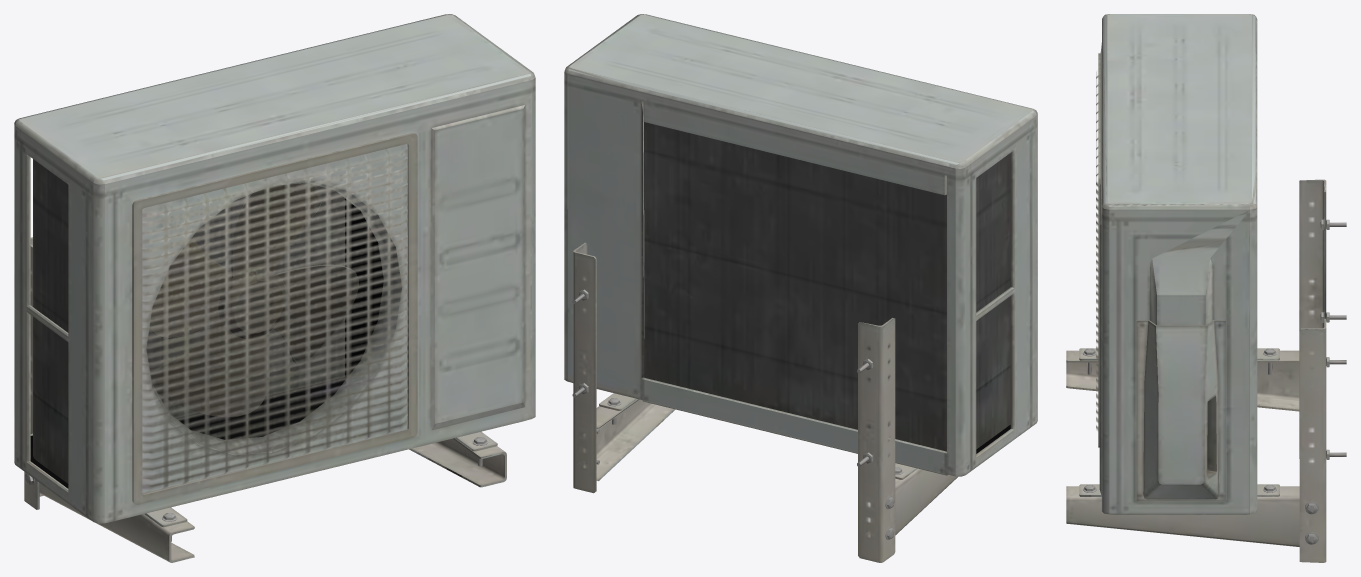
The model's file is ac-condenser.glb.
The picture shows the model from 3 angles, left to right: view 1: azimuth 30°, elevation 25°; view 2: azimuth 150°, elevation 25°; view 3: azimuth 270°, elevation 25°; orthographic projection. The views are drawn at different scales.
Visible parts, largest first — view 1: Conditioner, Grid_low.001, Propeller_low.001, 5_low.001, Beam1_low.001, 3_low.001, 4_low.001, 6_low.001, Beam2_low.001, 7_low.001; view 2: Conditioner, 5_low.001, Beam2_low.001, Beam1_low.001; view 3: Conditioner, 2_low.001, Beam2_low.001, Beam1_low.001, 7_low.001, Grid_low.001.
Boxes of the visible parts, x1,y1,x2,y2 form: Conditioner: [14, 14, 535, 523]; Grid_low.001: [142, 148, 408, 489]; Propeller_low.001: [149, 183, 358, 416]; 5_low.001: [33, 159, 344, 483]; Beam1_low.001: [39, 438, 506, 562]; 3_low.001: [30, 377, 344, 488]; 4_low.001: [345, 198, 383, 380]; 6_low.001: [218, 266, 287, 338]; Beam2_low.001: [24, 237, 43, 509]; 7_low.001: [144, 431, 497, 527]; Conditioner: [564, 14, 1037, 476]; 5_low.001: [644, 122, 1010, 451]; Beam2_low.001: [573, 242, 895, 562]; Beam1_low.001: [583, 399, 957, 537]; Conditioner: [1098, 14, 1257, 514]; 2_low.001: [1136, 320, 1225, 500]; Beam2_low.001: [1299, 179, 1326, 562]; Beam1_low.001: [1066, 350, 1314, 546]; 7_low.001: [1079, 348, 1279, 496]; Grid_low.001: [1096, 72, 1098, 430].
Size of the model in its own units: 0.9245 by 0.8 by 0.5367.
Materials: 1 (1 with a texture image).
